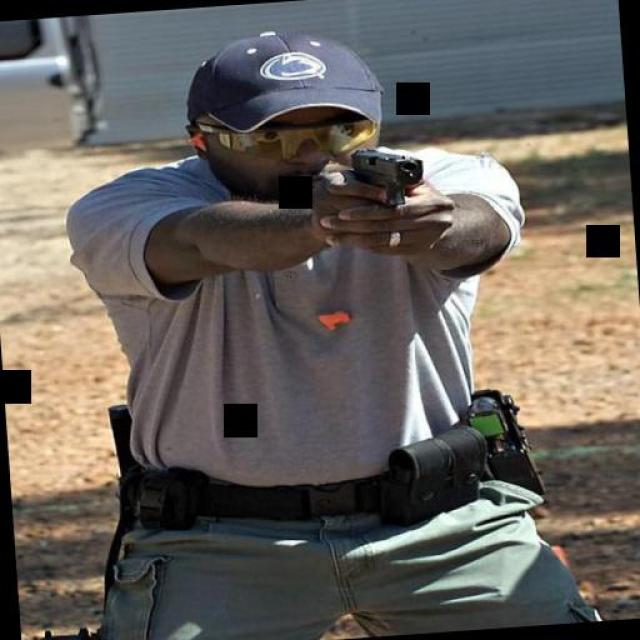gun: (340, 136, 435, 212)
